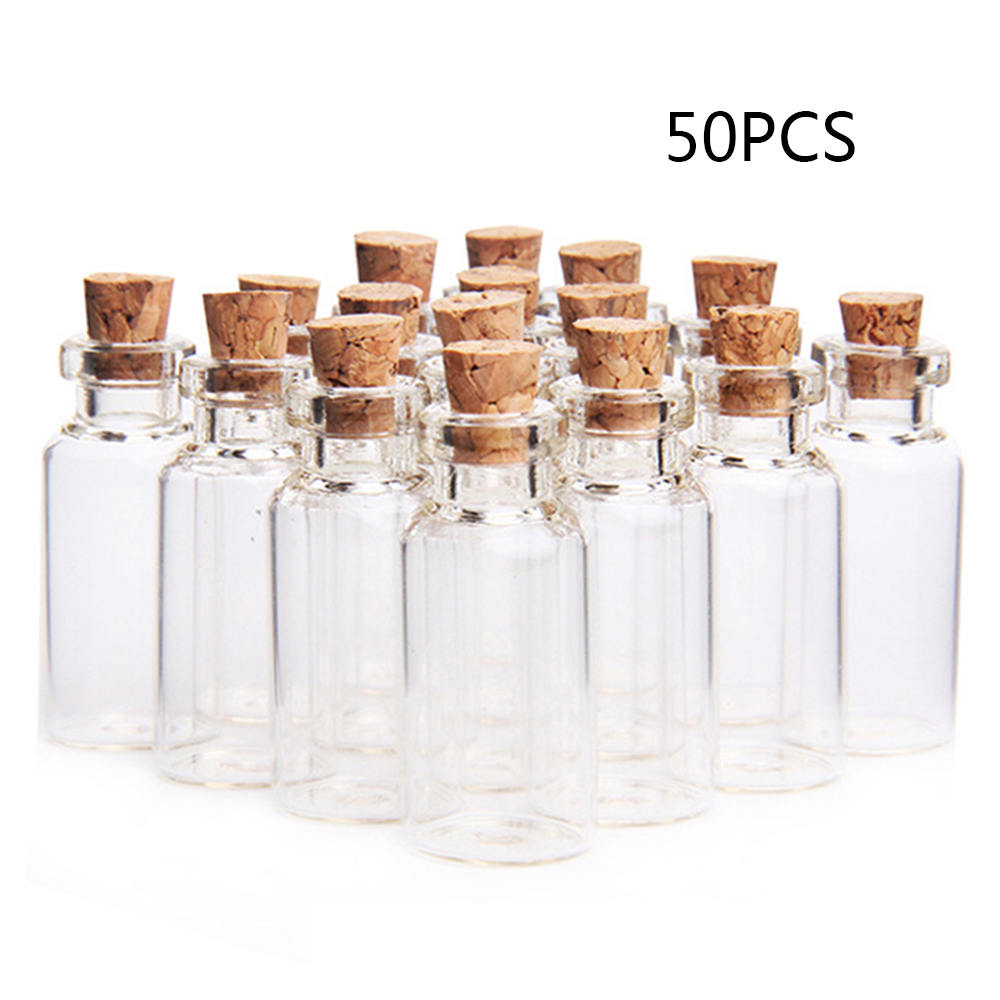glass_bottleww: (544, 259, 740, 908), (410, 297, 614, 887), (26, 198, 212, 840), (682, 285, 876, 845), (807, 234, 964, 854), (176, 234, 319, 870), (297, 280, 456, 851)
